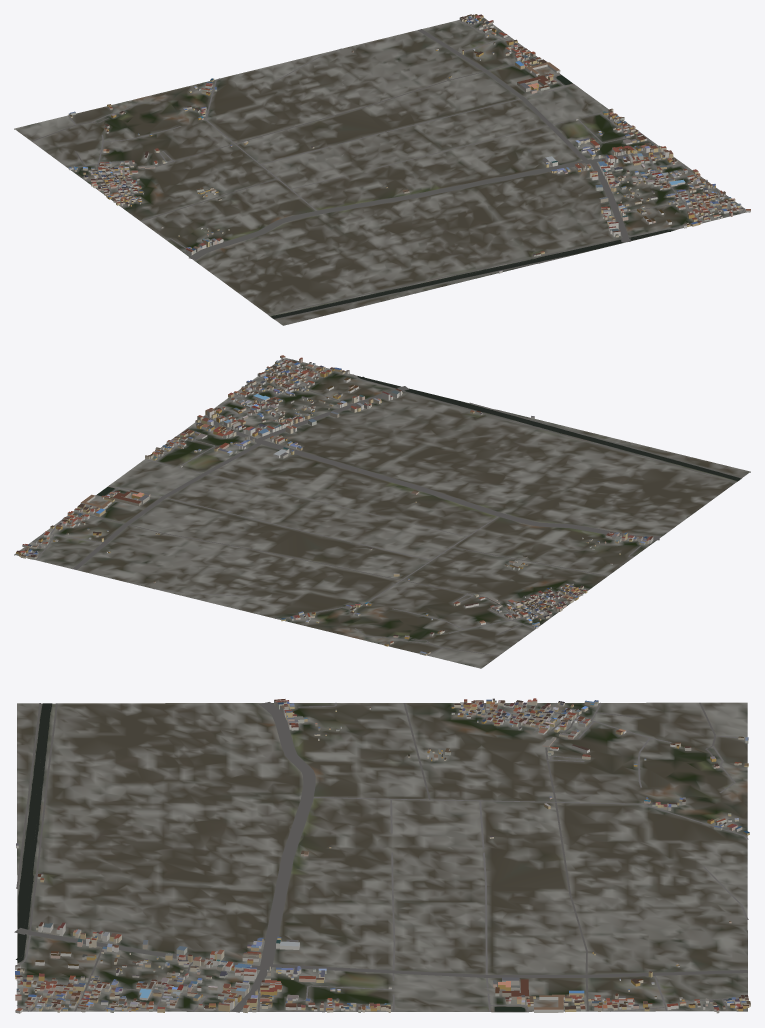
3 renders of one model, top to bottom at view 1: azimuth 30°, elevation 25°; view 2: azimuth 150°, elevation 25°; view 3: azimuth 270°, elevation 25°, orthographic. The views are drawn at different scales.
Visible parts, largest first — view 1: ground, buildings, roads, water; view 2: ground, buildings, roads, water; view 3: ground, buildings, roads, water.
Part boxes in pixels (x1,y1,x2,y2): ground: [14, 17, 749, 325]; buildings: [68, 14, 750, 273]; roads: [31, 20, 744, 319]; water: [271, 75, 674, 318]; ground: [14, 358, 750, 668]; buildings: [16, 355, 653, 655]; roads: [28, 359, 742, 655]; water: [97, 376, 740, 495]; ground: [17, 702, 747, 1012]; buildings: [15, 698, 750, 1013]; roads: [14, 702, 748, 1012]; water: [16, 703, 525, 1011].
Bounding box in the file's own units: 1416 × 20.88 × 1414.
